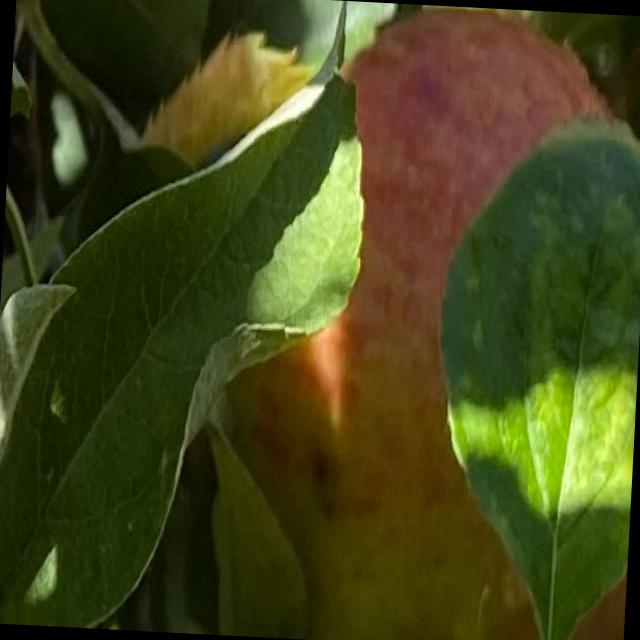Apples: (216, 0, 639, 639)
